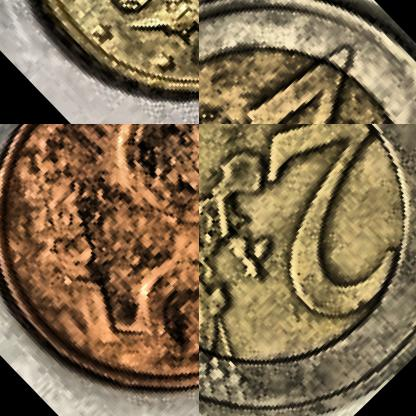coin: (199, 124, 415, 415), (0, 124, 198, 415), (199, 0, 415, 123), (0, 0, 198, 123)
